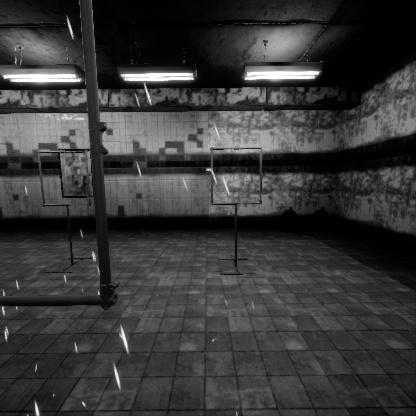gate: (211, 210, 267, 269), (37, 209, 95, 265)
